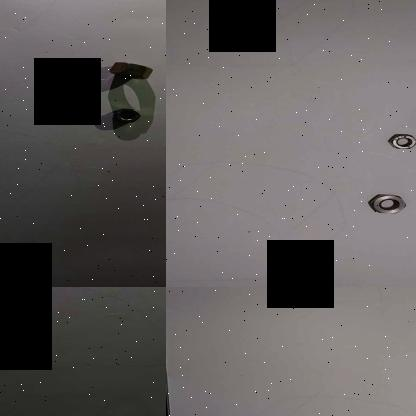NUTS: (99, 61, 161, 82), (363, 192, 405, 216), (108, 106, 150, 128), (386, 130, 416, 154)
